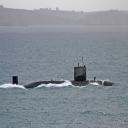submarine: (11, 66, 118, 88)
